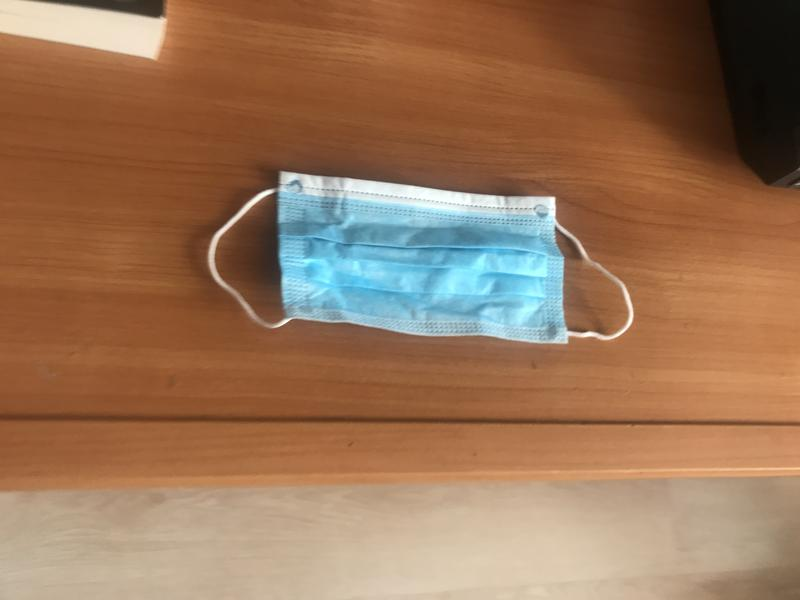medical_mask: (207, 171, 637, 345)
